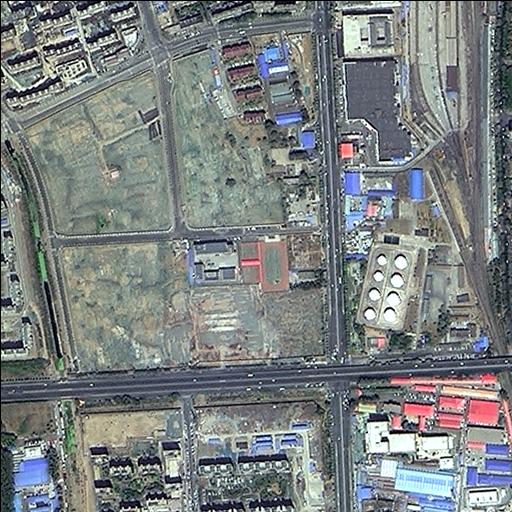school: (189, 233, 292, 296)
